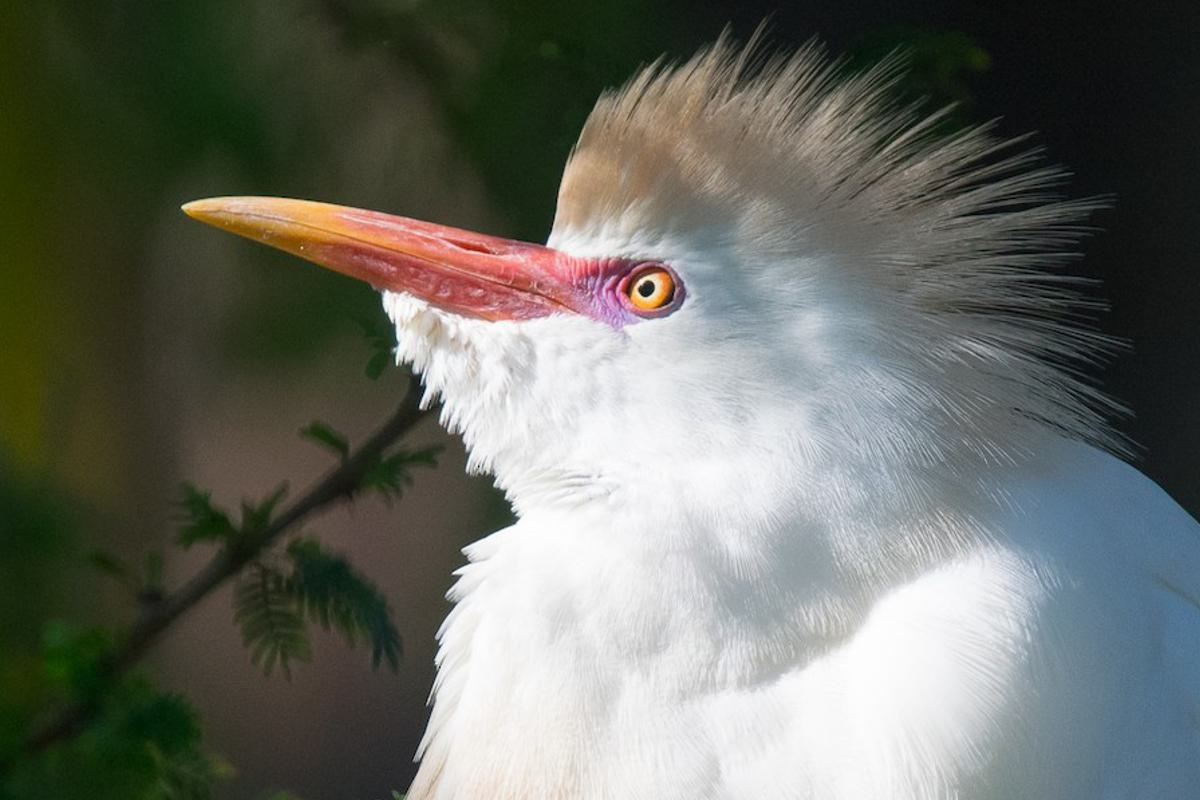egret: (171, 65, 1200, 800)
